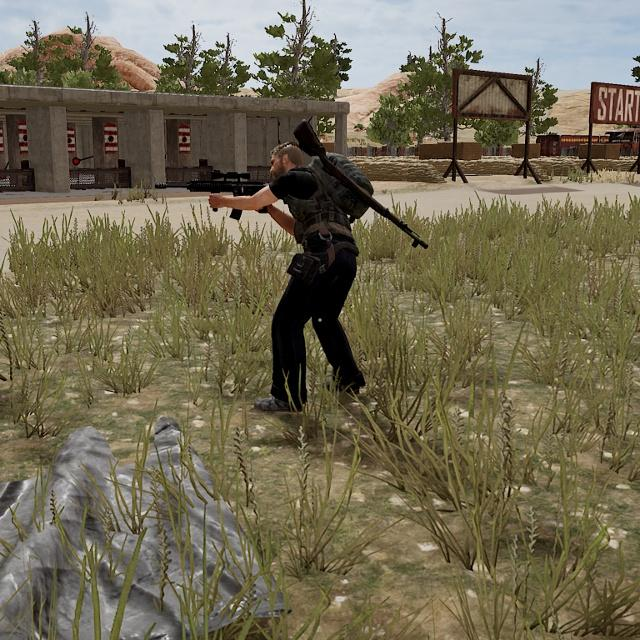head: (263, 138, 307, 193)
people: (230, 134, 385, 414)
